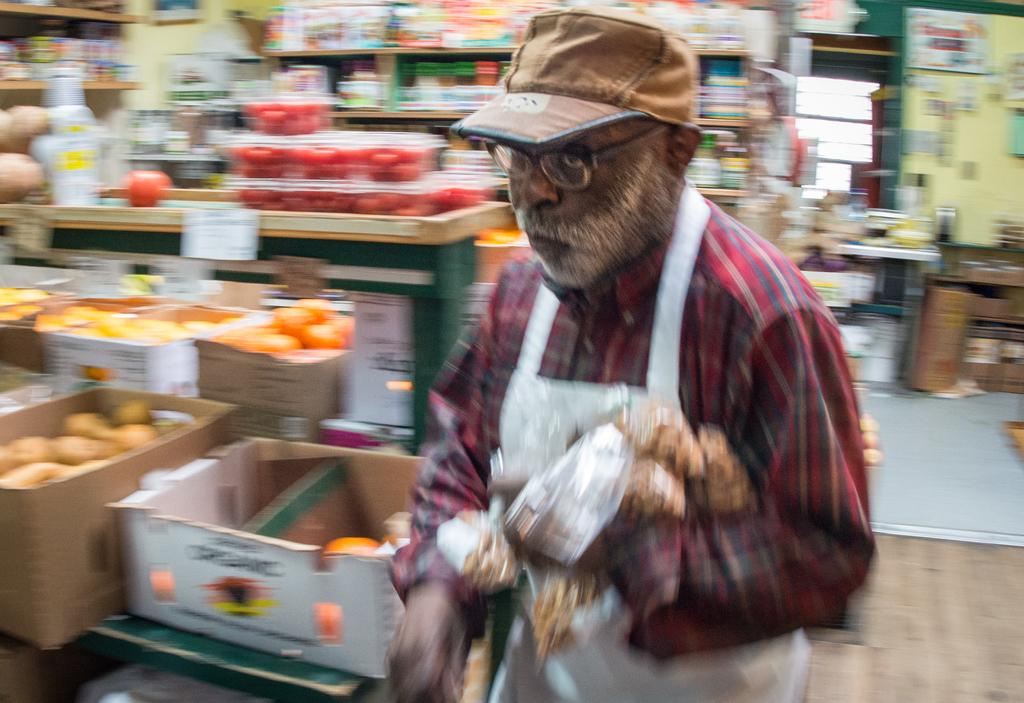Hat: (454, 0, 700, 149)
